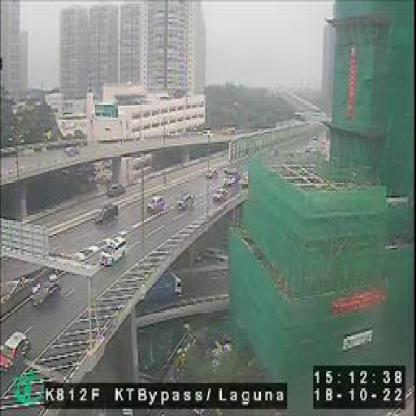Car: (1, 330, 31, 372), (100, 234, 128, 268), (30, 280, 63, 308), (93, 202, 118, 224), (146, 192, 167, 214), (176, 192, 193, 210), (213, 188, 227, 204), (206, 166, 218, 180)
